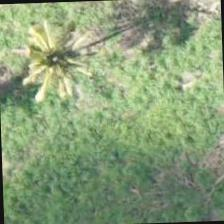Kelapa_Sawit: (16, 8, 110, 101)
